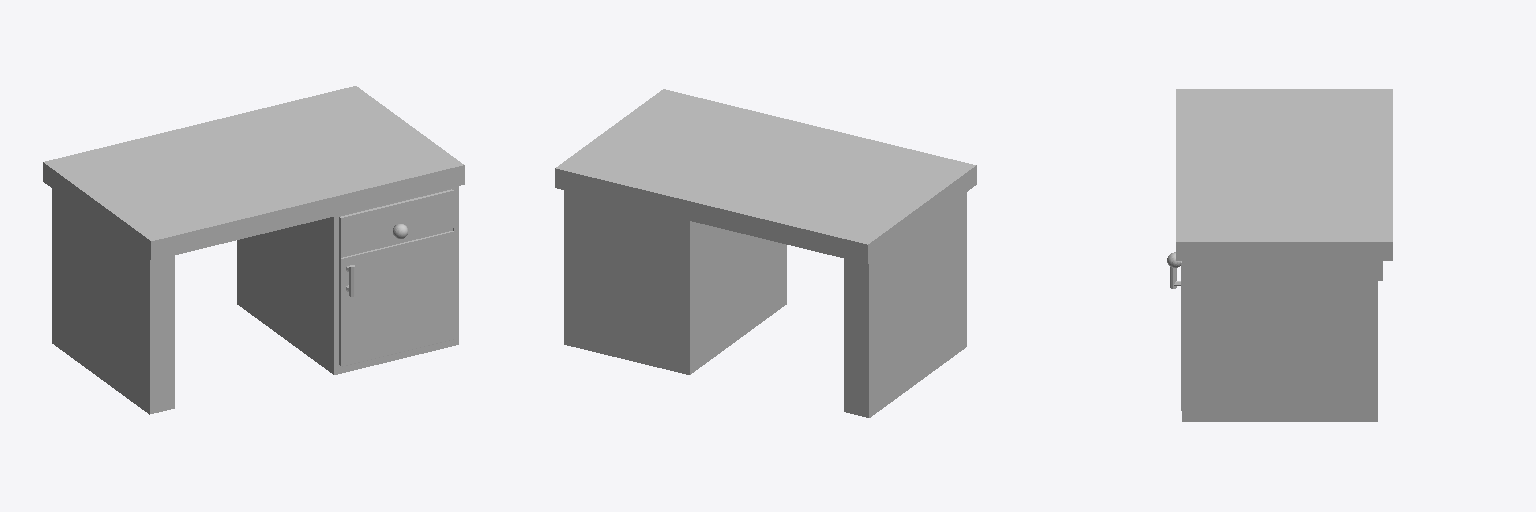
The model's file is Desk-Merged.obj.
3 views of the same model, side by side, from view 1: azimuth 30°, elevation 25°; view 2: azimuth 150°, elevation 25°; view 3: azimuth 270°, elevation 25° (orthographic).
Parts seen in each view (by area): view 1: Desk-Merged; view 2: Desk-Merged; view 3: Desk-Merged.
Part boxes in pixels (left/top/right/bottom): Desk-Merged: left=43, top=86, right=464, bottom=414; Desk-Merged: left=555, top=89, right=976, bottom=417; Desk-Merged: left=1167, top=89, right=1392, bottom=421.
Bounding box in the file's own units: 5 × 2.77 × 3.12.